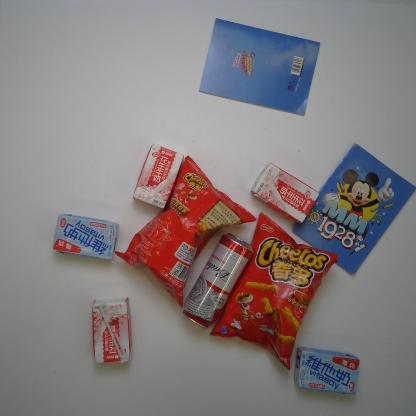Alcohol: (181, 232, 255, 329)
Milk: (249, 162, 320, 224), (131, 142, 184, 210), (293, 346, 361, 396), (51, 212, 119, 261), (91, 296, 134, 364)
Puffed Food: (112, 155, 258, 309), (209, 211, 338, 371)
Stationery: (290, 142, 416, 276), (197, 16, 322, 118)
